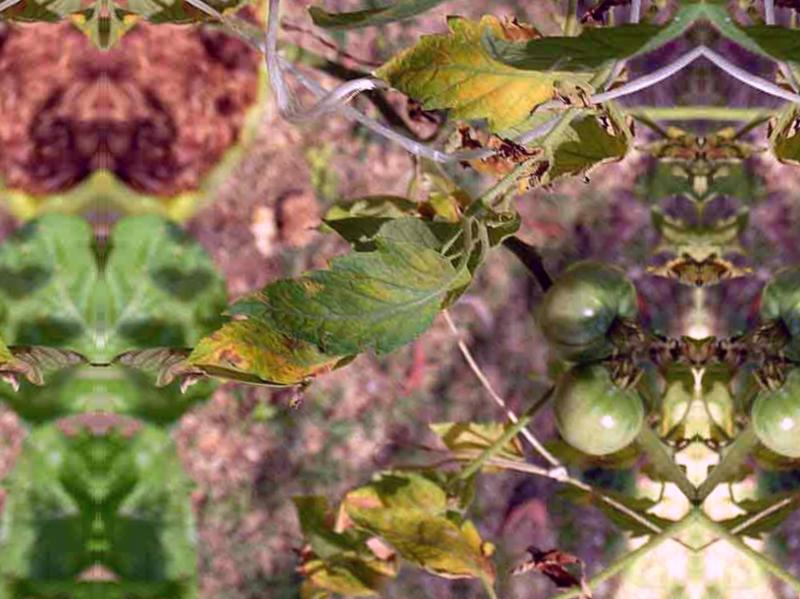Tomato mold leaf: (160, 232, 455, 398), (354, 0, 568, 138), (350, 494, 494, 593)
